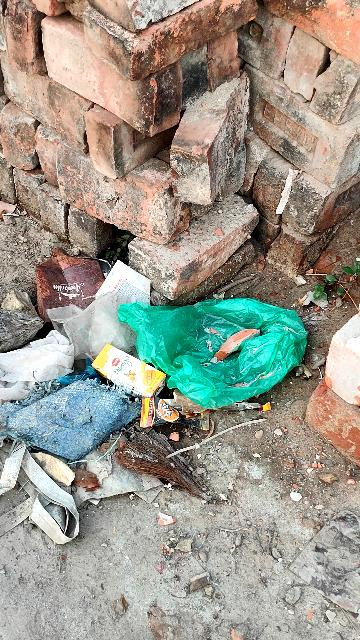polythene: (157, 297, 303, 427)
